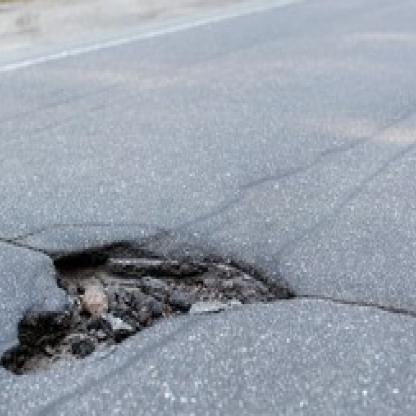pothole: (0, 238, 293, 379)
